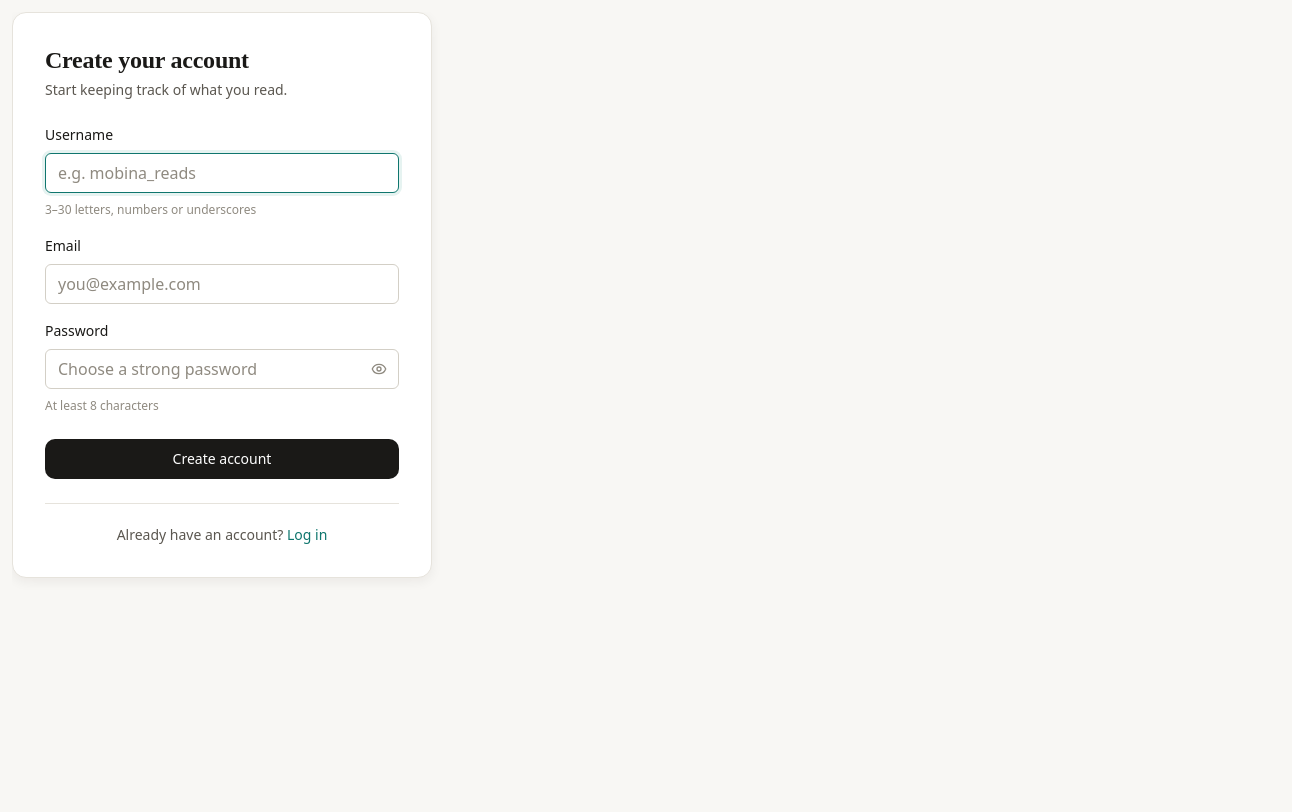
it: RegisterPage › registers, shows a welcome toast and redirects to the dashboard
In the field labelled "Username": (222, 173) [45,153,399,193], type "mobina"
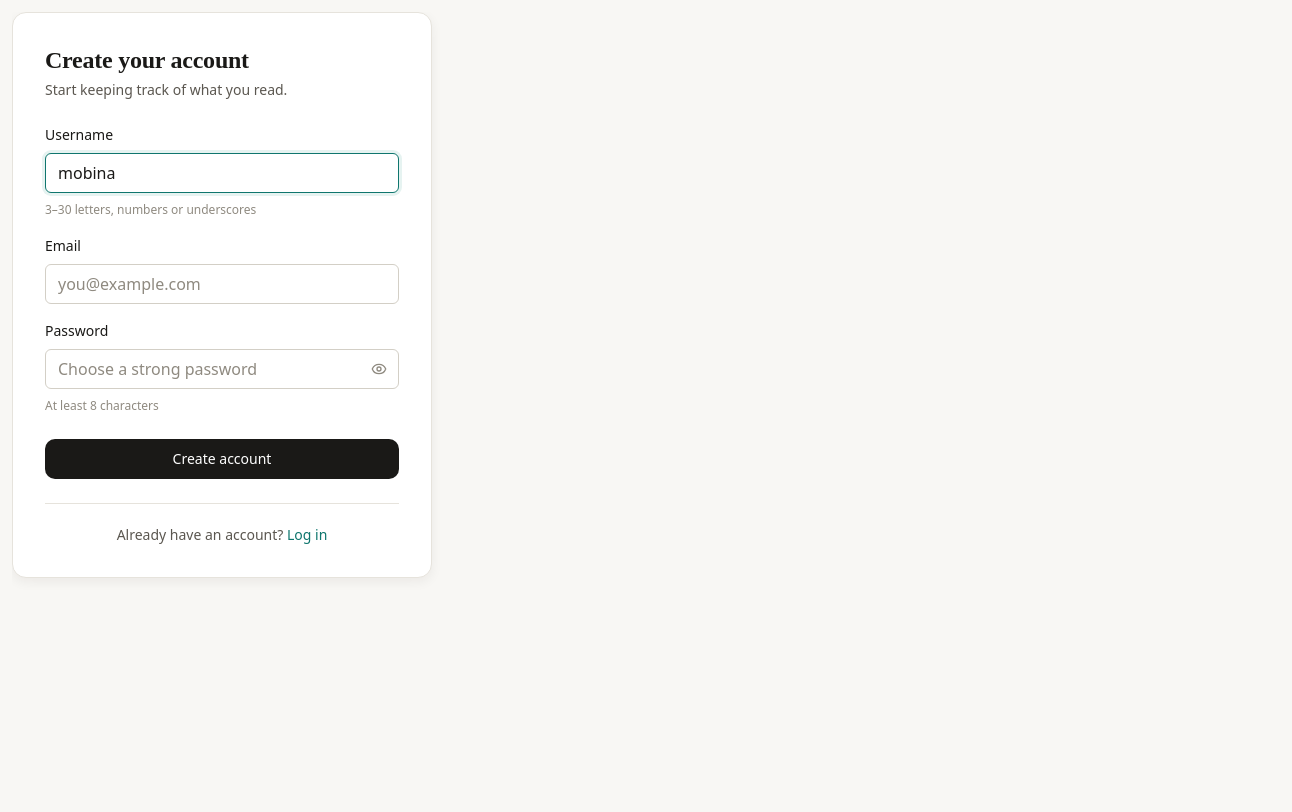
In the field labelled "Email": (222, 284) [45,264,399,304], type "mobina@example.com"
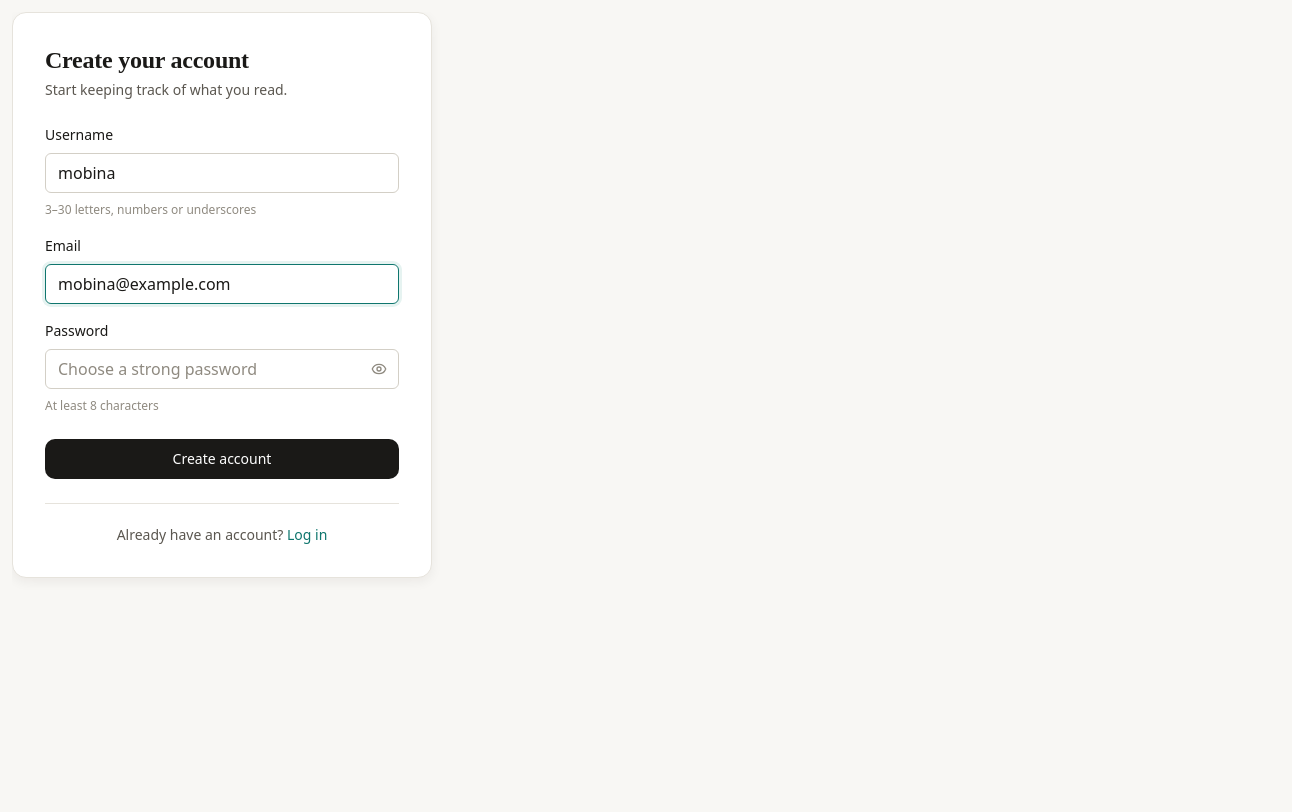
In the password field labelled "Password": (222, 369) [45,349,399,389], type "password123"
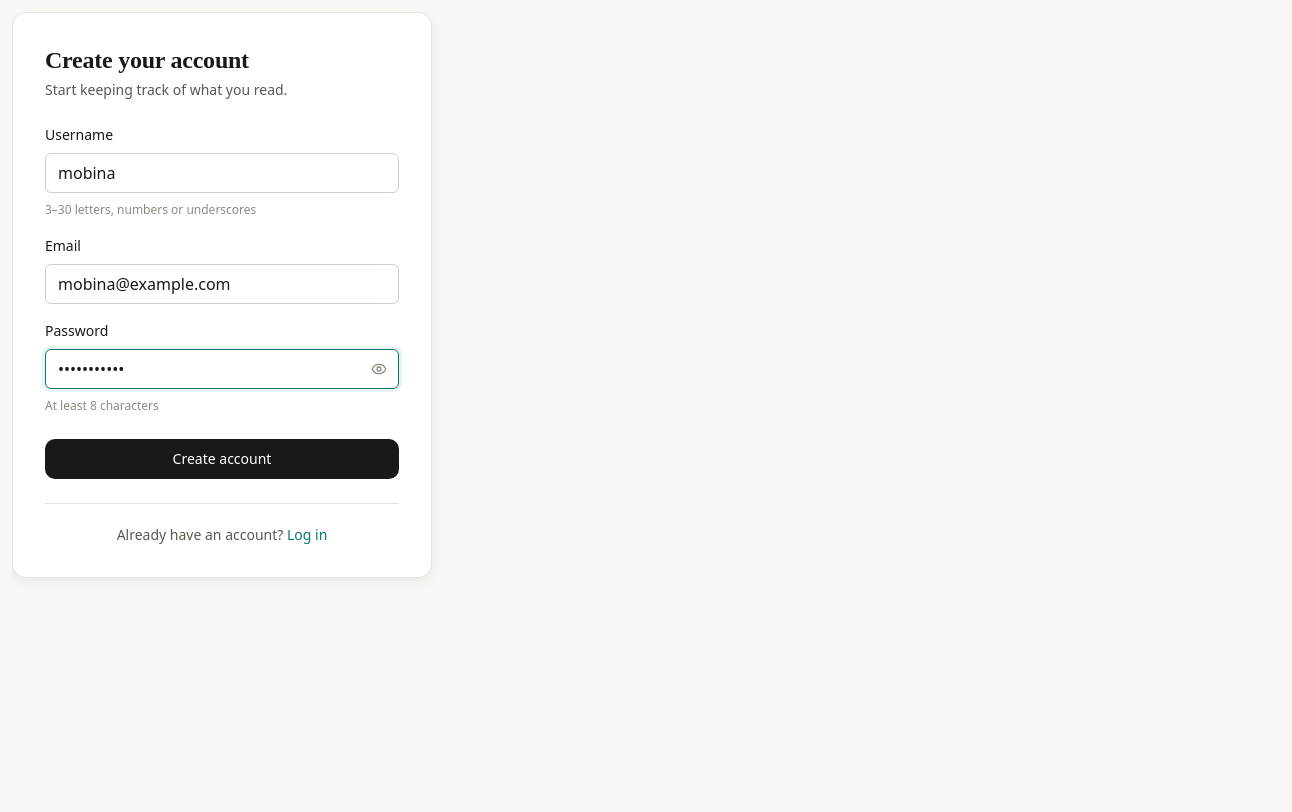
Click the button "Create account": (222, 459) [45,439,399,479]
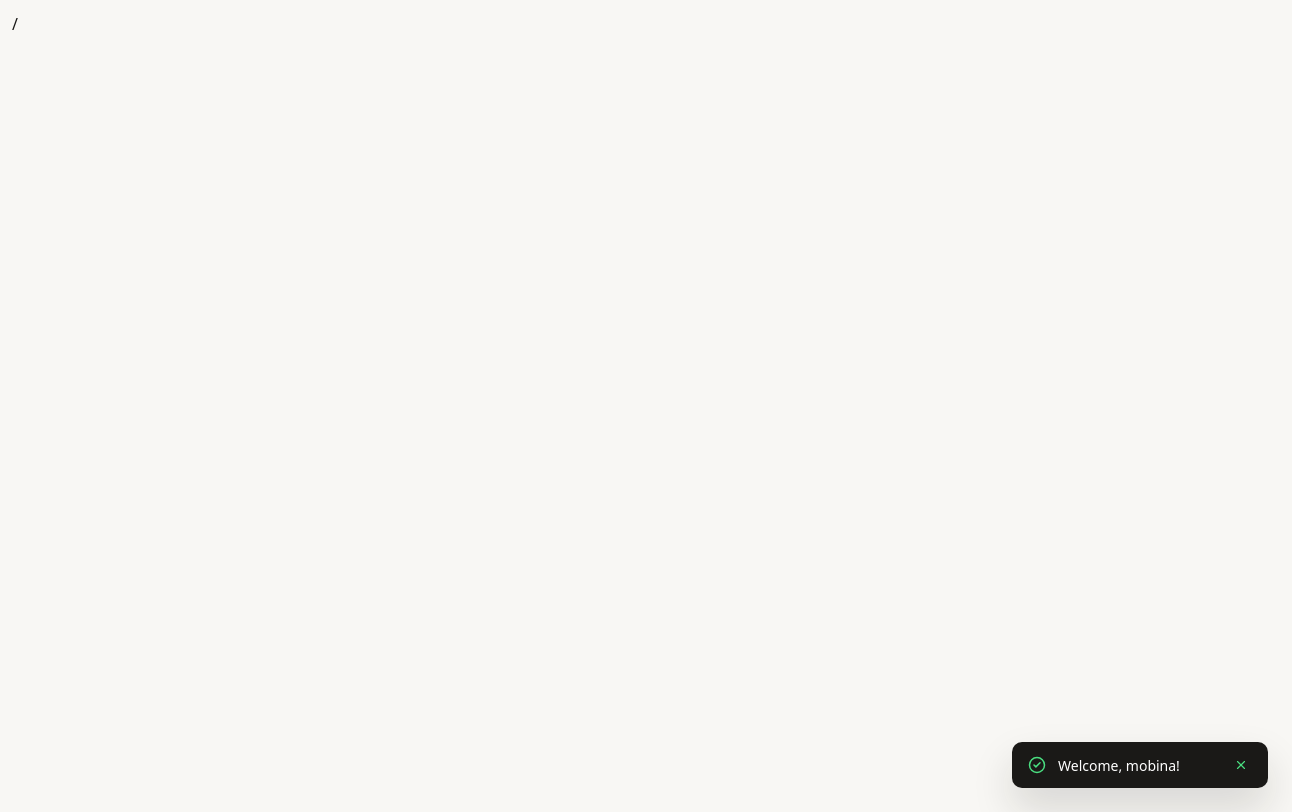
Expected: the text with test id "location" reads "/", [12,13,18,35]
Expected: the message reads "Welcome, mobina!", [1058,756,1180,774]
